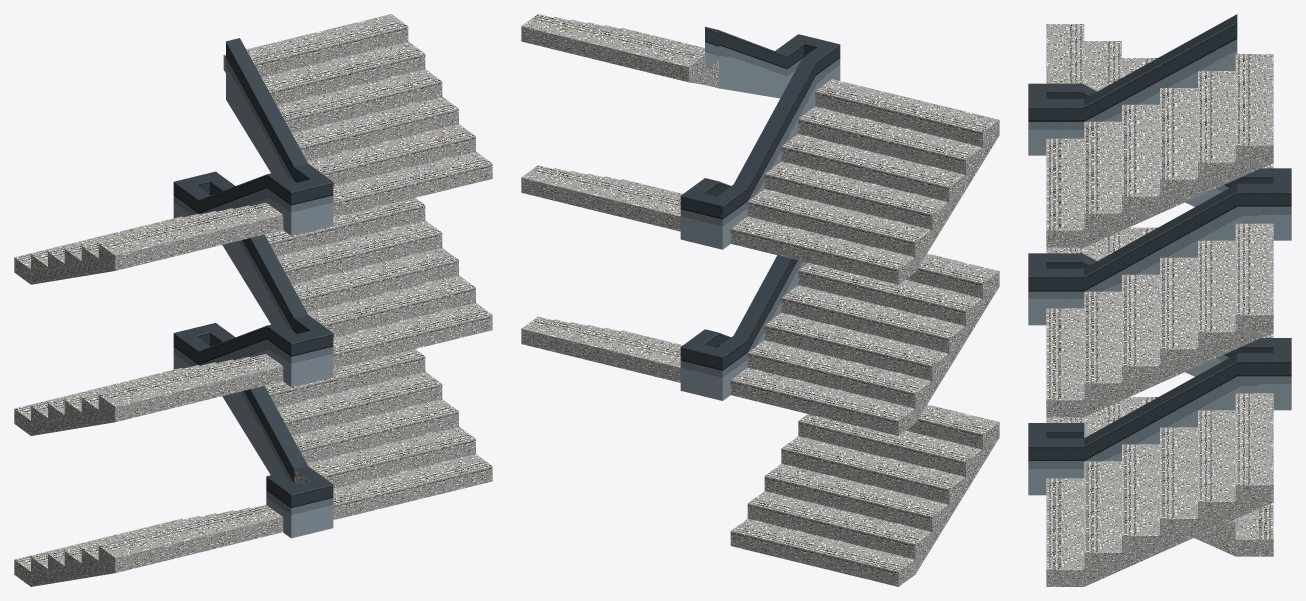
Rendered from stairs.fbx.
3 renders of one model, left to right at view 1: azimuth 30°, elevation 25°; view 2: azimuth 150°, elevation 25°; view 3: azimuth 270°, elevation 25°, orthographic. The views are drawn at different scales.
Visible parts, largest first — view 1: stair railing, stairs, stairs.001, stairs.002, stairs.003, stairs.004, stairs.005; view 2: stairs.003, stairs.004, stairs.005, stair railing, stairs, stairs.001, stairs.002; view 3: stair railing, stairs.001, stairs, stairs.002, stairs.003, stairs.005, stairs.004.
Part boxes in pixels (x1,y1,x2,y2): stair railing: (173,38,333,538); stairs: (223,14,492,217); stairs.001: (264,198,492,368); stairs.002: (265,349,492,520); stairs.003: (14,202,283,284); stairs.004: (14,354,283,435); stairs.005: (14,505,283,586); stairs.003: (730,79,999,284); stairs.004: (730,253,999,435); stairs.005: (730,404,999,586); stair railing: (680,26,840,400); stairs: (521,14,718,87); stairs.001: (521,165,682,231); stairs.002: (521,316,682,382); stair railing: (1028,14,1291,495); stairs.001: (1046,223,1273,417); stairs: (1046,54,1273,247); stairs.002: (1046,393,1273,586); stairs.003: (1046,24,1273,168); stairs.005: (1046,397,1273,556); stairs.004: (1046,227,1273,337).
Size of the model in its own units: 900 by 1133 by 485.
Materials: 1 (1 with a texture image).
